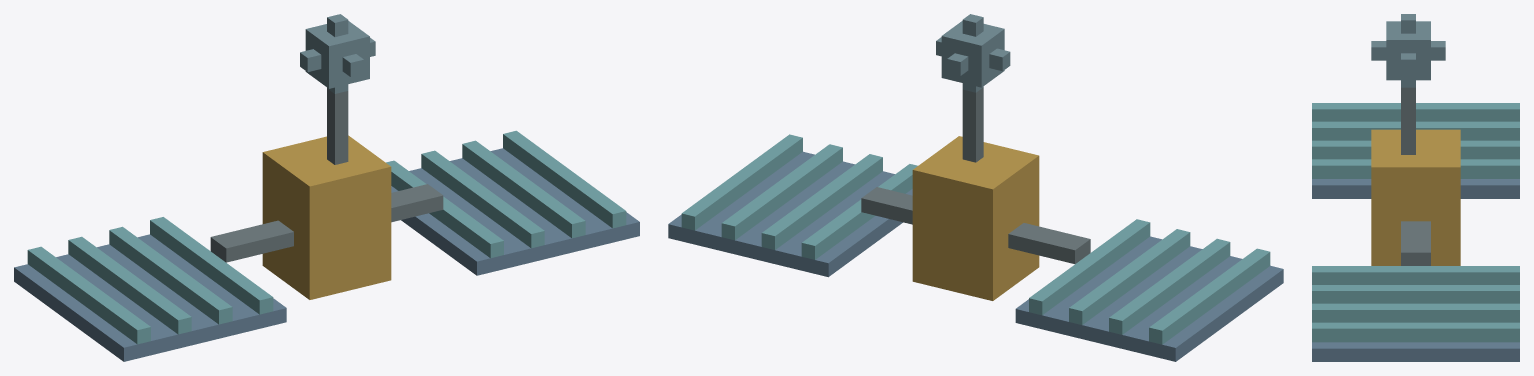
Rendered from telecom-08.glb.
3 views of the same model, side by side, from view 1: azimuth 30°, elevation 25°; view 2: azimuth 150°, elevation 25°; view 3: azimuth 270°, elevation 25° (orthographic). The views are drawn at different scales.
Visible parts, largest first — view 1: Telecom satellite; view 2: Telecom satellite; view 3: Telecom satellite.
Part boxes in pixels (x1,y1,x2,y2): Telecom satellite: (14, 14, 639, 361); Telecom satellite: (668, 14, 1283, 361); Telecom satellite: (1312, 14, 1519, 361).
Bounding box in the file's own units: 3.04 × 1.44 × 1.12.
